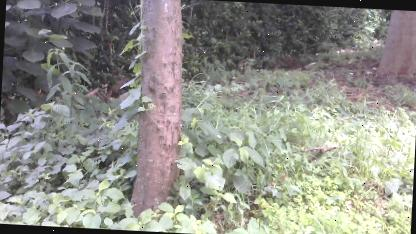tree: (124, 0, 193, 223)
